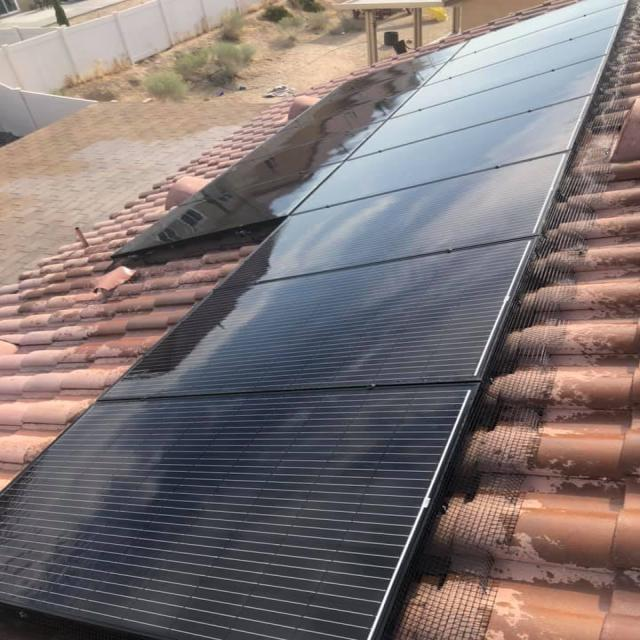clean-solar-panel: (3, 1, 625, 640)
